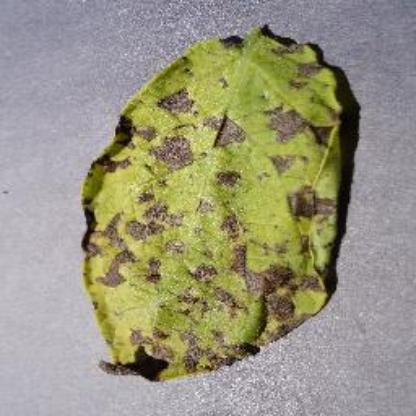Early-Blight: (82, 27, 352, 385)
